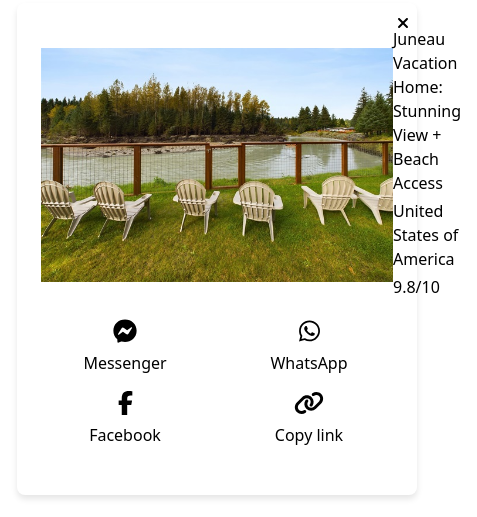
it: ShareModal Component › copies link to clipboard and shows "Copied!" message
The width and height of the screenshot is (477, 517).
Note: Click the copy link button
Click the button "Copy link": click(309, 419) [225,391,393,447]
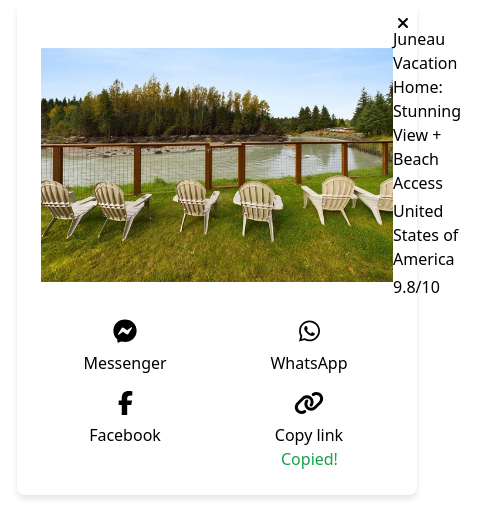
Now the text "Copied!" is shown, box [281,448,338,470]
